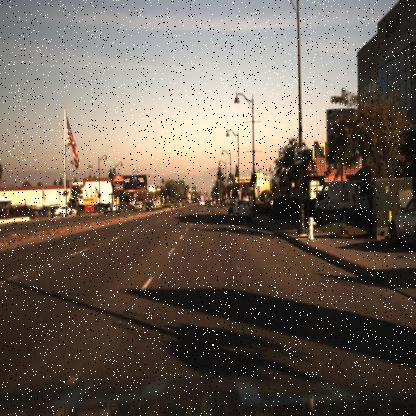car: (312, 179, 370, 223), (233, 197, 254, 222), (53, 204, 78, 218), (101, 198, 118, 216), (55, 204, 77, 216), (144, 197, 156, 213), (228, 197, 235, 221)
truck: (311, 176, 383, 242)
